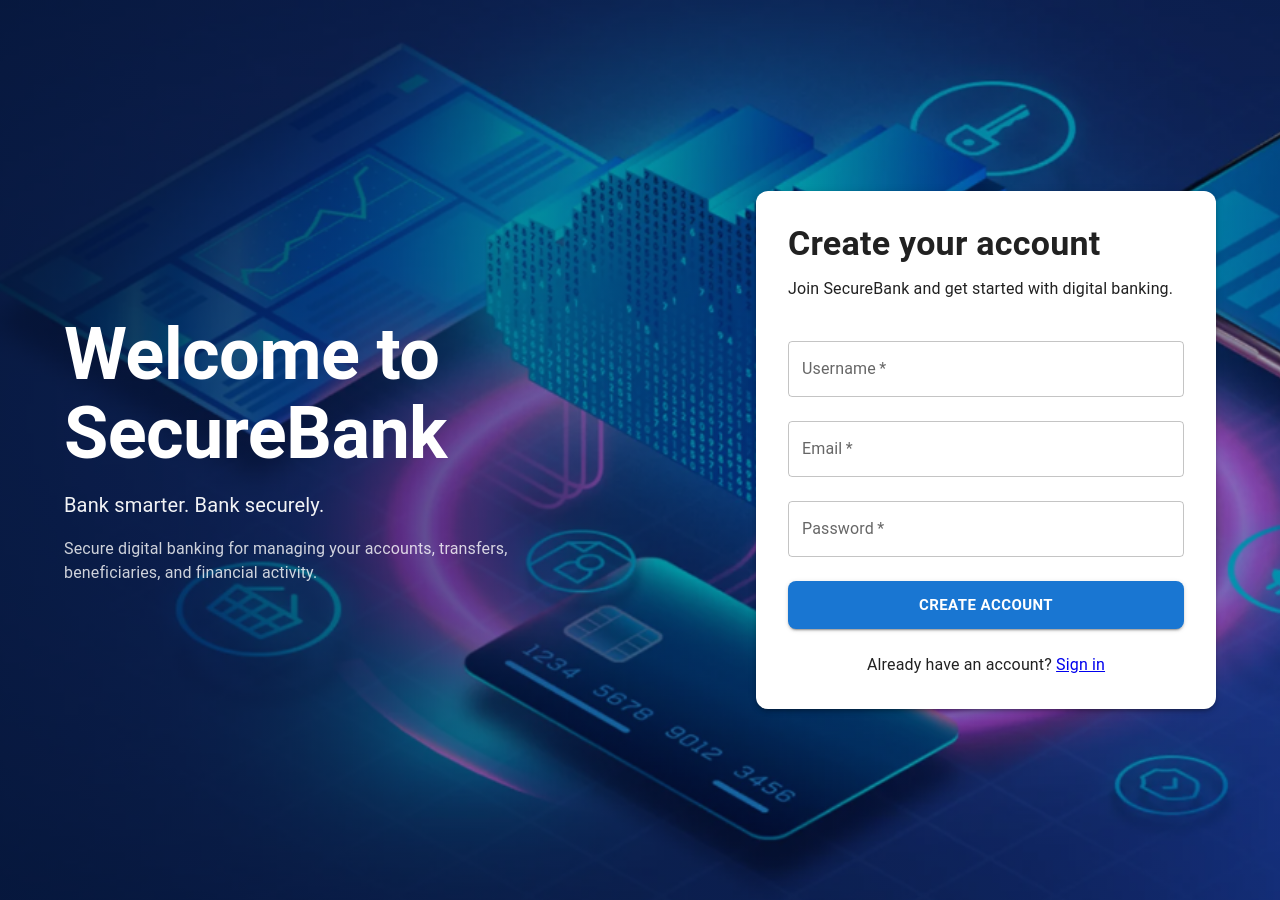
Scenario: Register › shows a registration error when the request fails
In the field labelled "Username *": (986, 369) [788, 341, 1184, 397], type "newuser"
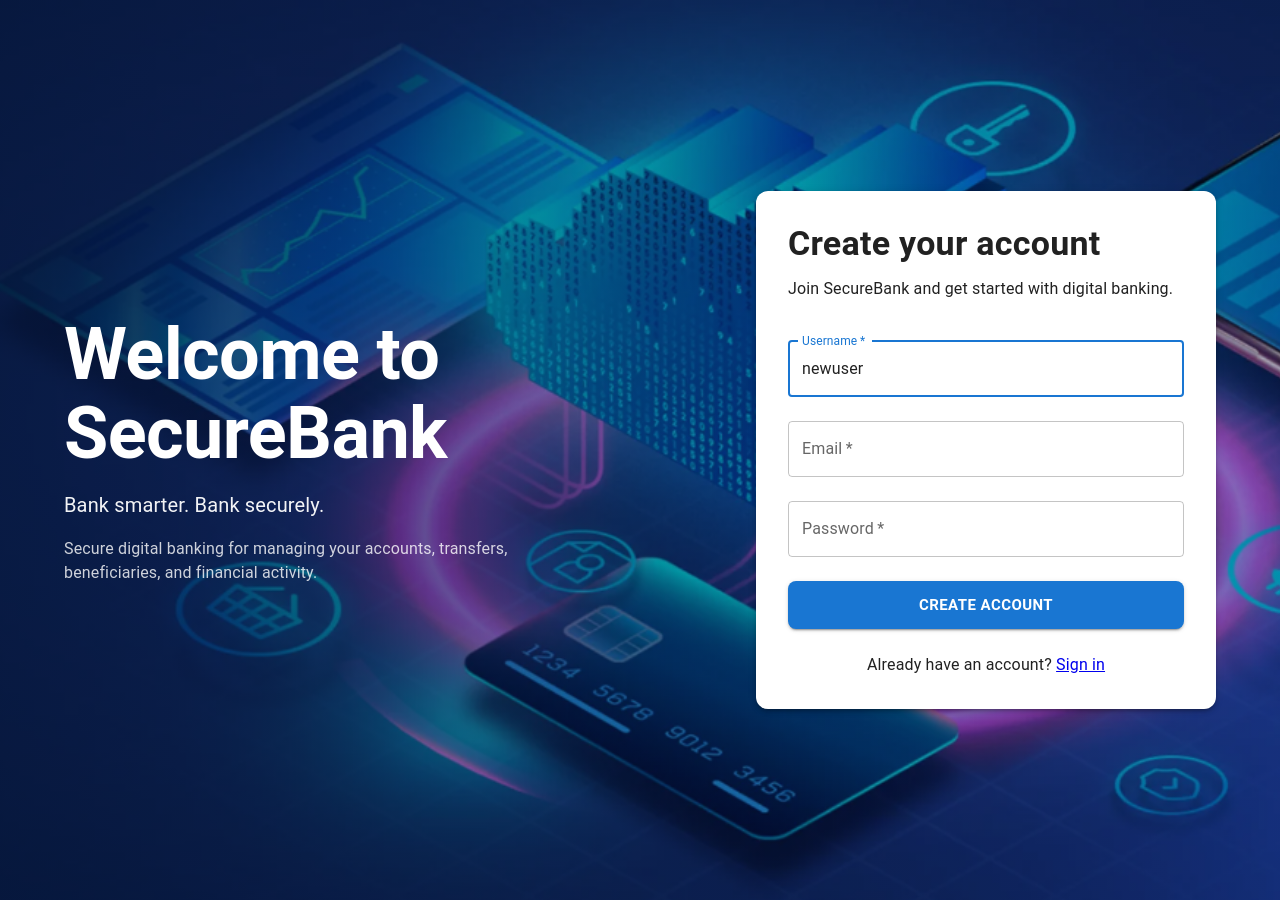
In the field labelled "Email *": (986, 449) [788, 421, 1184, 477], type "newuser@example.com"
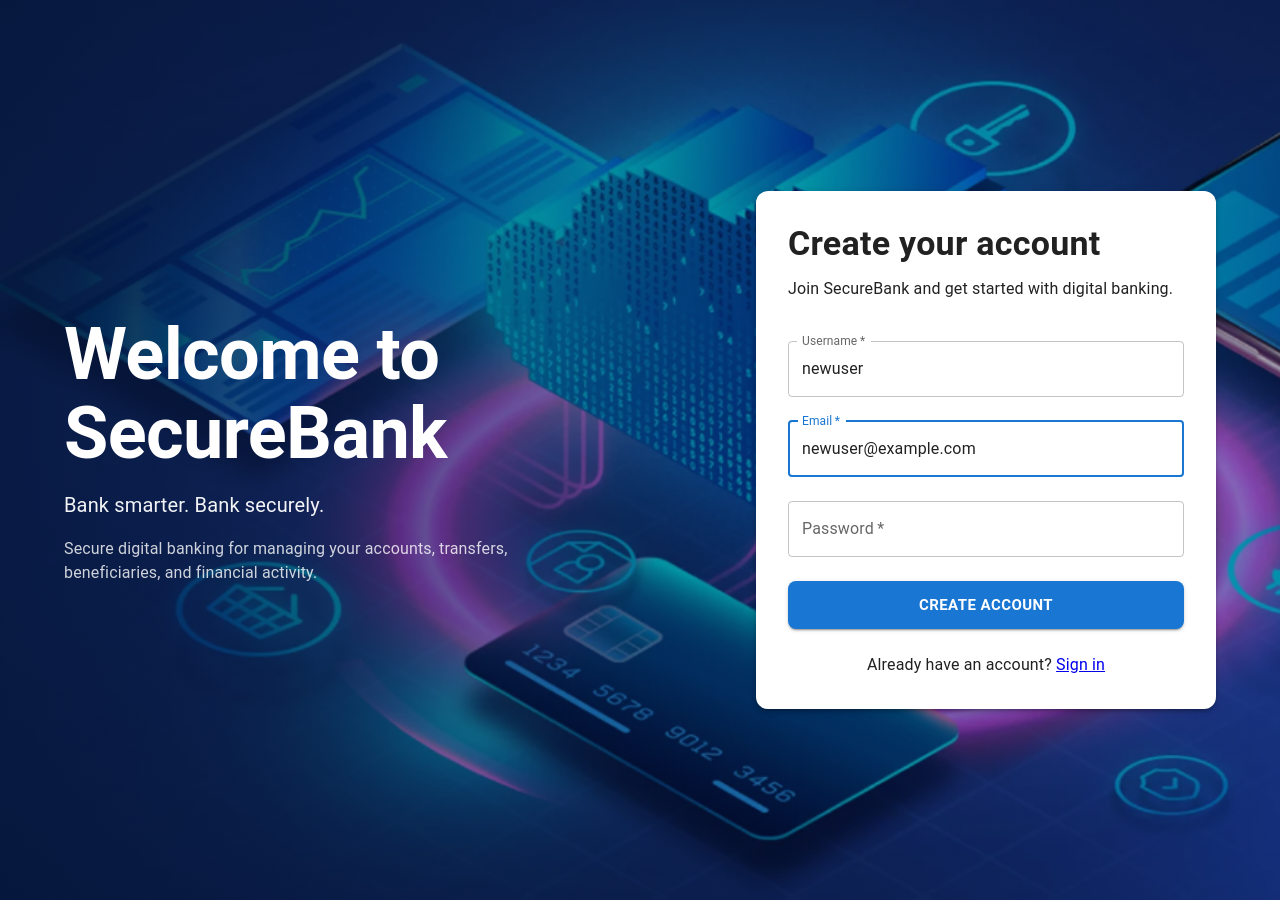
In the password field labelled "Password *": (986, 529) [788, 501, 1184, 557], type "Password@123"
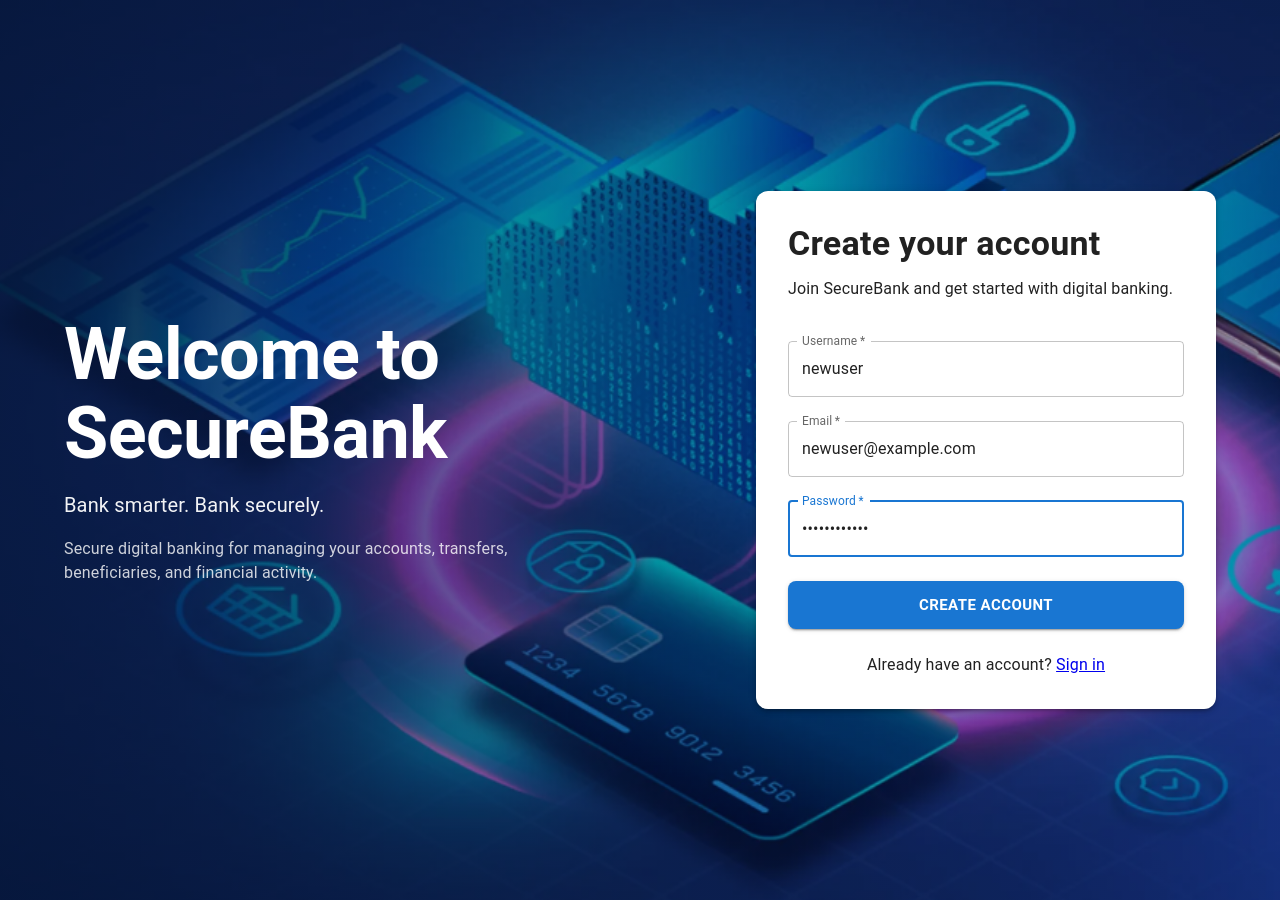
Click the button "Create account": (986, 605) [788, 581, 1184, 629]
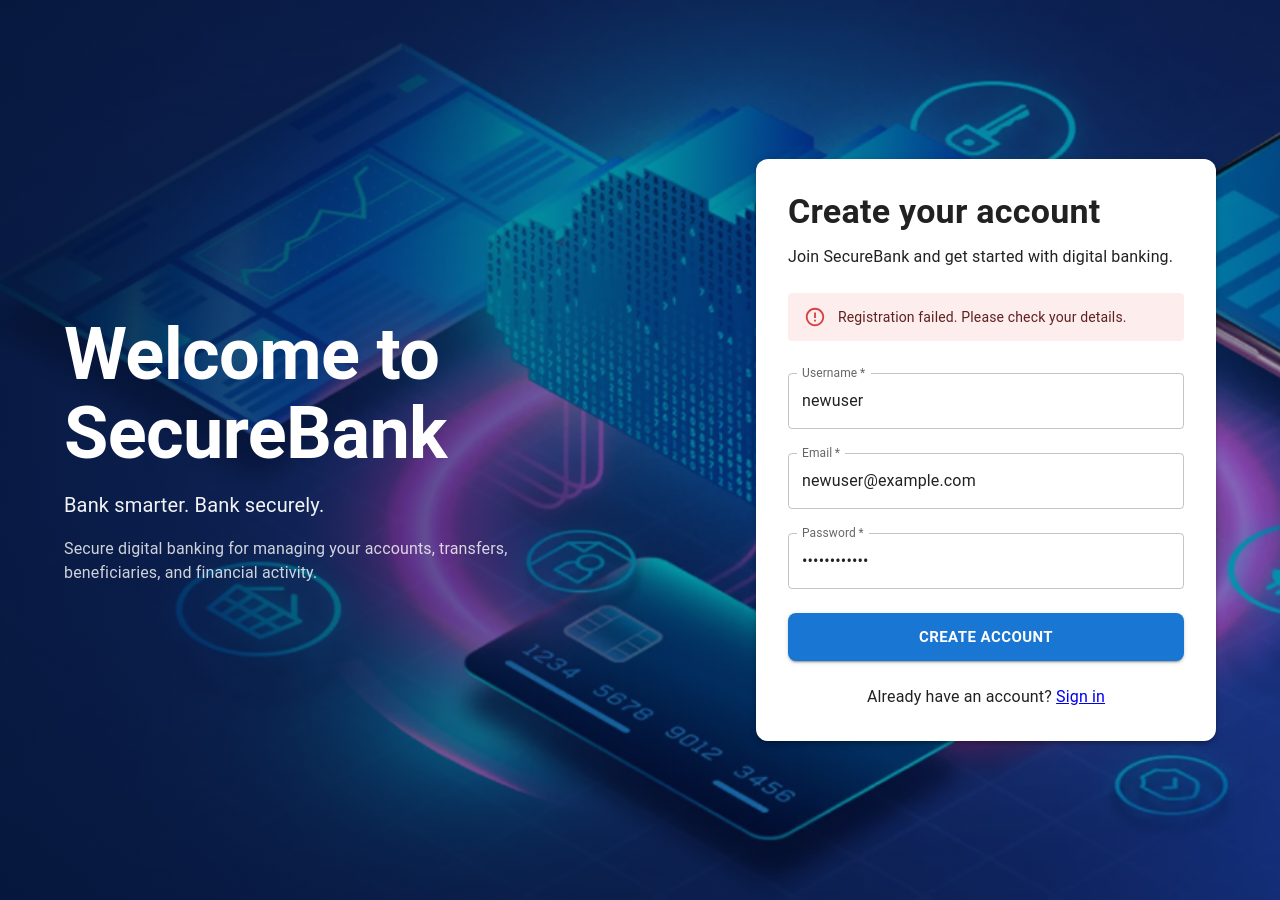
Result: the text "Registration failed. Please check your details." is shown at [838, 309, 1127, 325]
